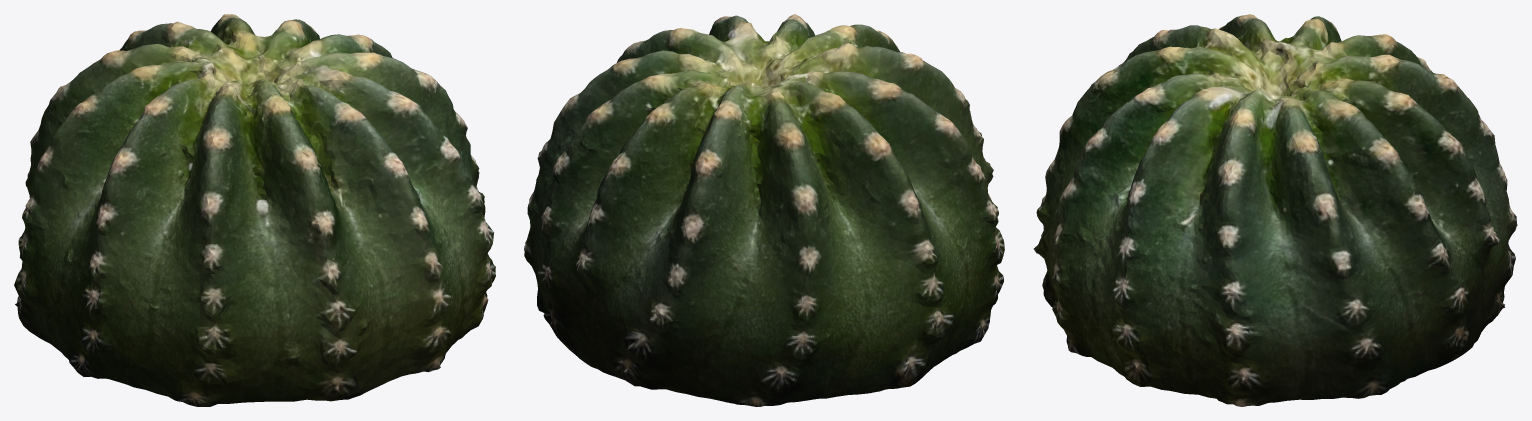
File: biznaga.fbx
The picture shows the model from 3 angles, left to right: view 1: azimuth 30°, elevation 25°; view 2: azimuth 150°, elevation 25°; view 3: azimuth 270°, elevation 25°; orthographic projection.
Visible parts, largest first — view 1: textured; view 2: textured; view 3: textured.
Part boxes in pixels (x1,y1,x2,y2): textured: [14, 14, 495, 406]; textured: [524, 14, 1004, 406]; textured: [1033, 14, 1517, 406].
Size of the model in its own units: 202 by 120 by 204.
1 material, 1 textured.
